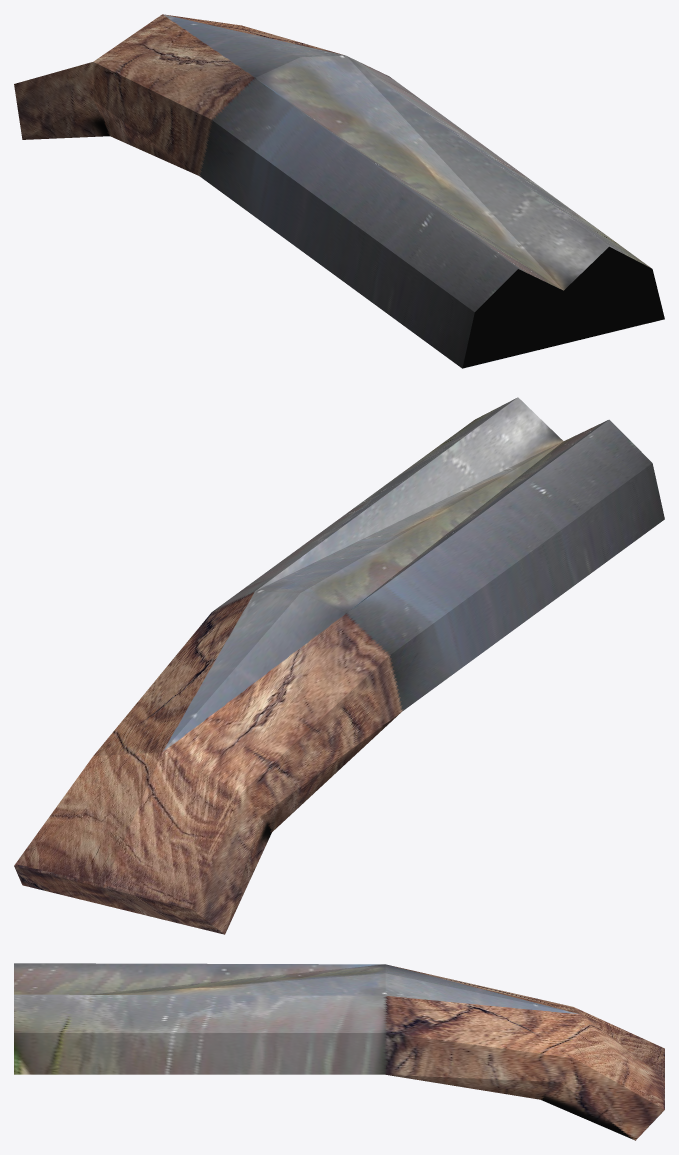
Rendered from MODEL_weapon1.fbx.
The picture shows the model from 3 angles, top to bottom: view 1: azimuth 30°, elevation 25°; view 2: azimuth 150°, elevation 25°; view 3: azimuth 270°, elevation 25°; orthographic projection. The views are drawn at different scales.
Visible parts, largest first — view 1: ShotgunModel; view 2: ShotgunModel; view 3: ShotgunModel.
Boxes of the visible parts, bbox=[...] form: ShotgunModel: bbox=[14, 14, 664, 368]; ShotgunModel: bbox=[14, 397, 664, 934]; ShotgunModel: bbox=[14, 963, 664, 1140].
Size of the model in its own units: 8.89 by 7.87 by 35.03.
